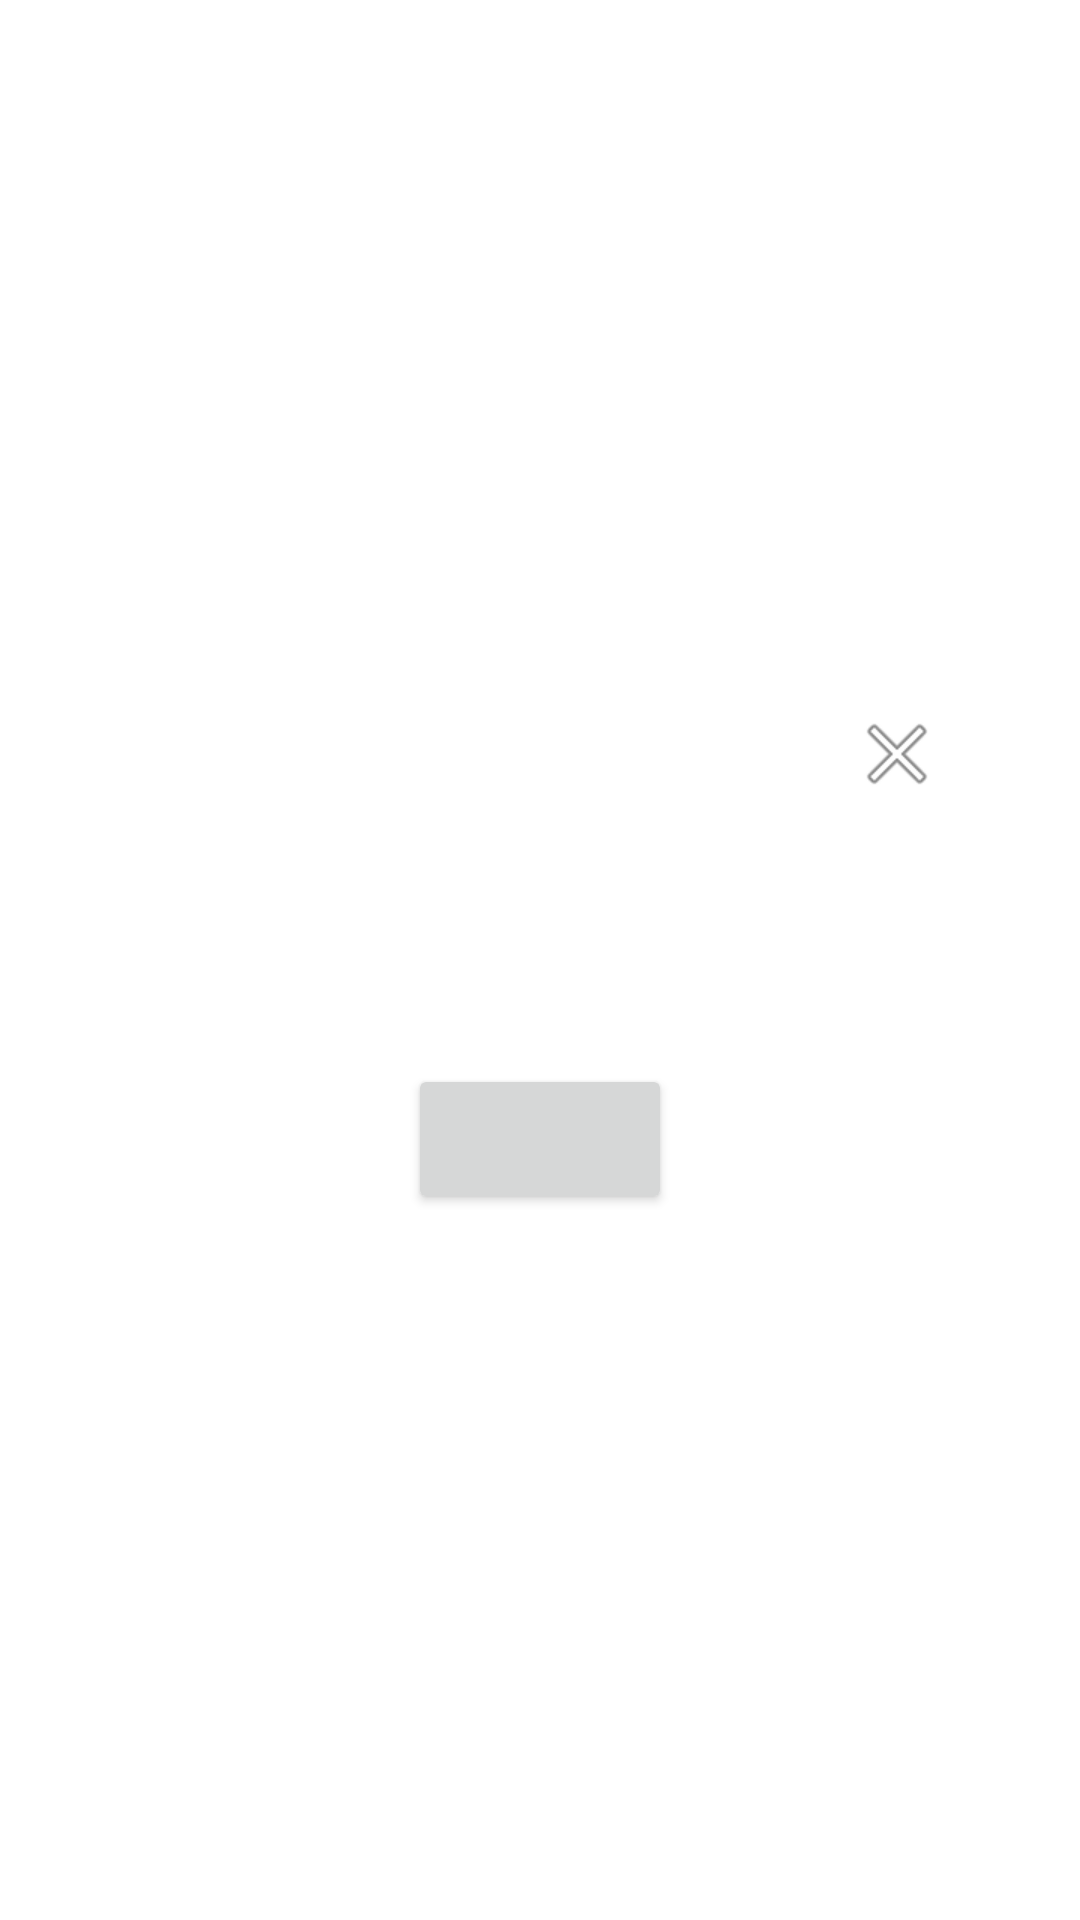

Named icons in this screenshot (1080px x 1920px) and their centers, point (x, y):
close clear cancel: point (897, 754)
